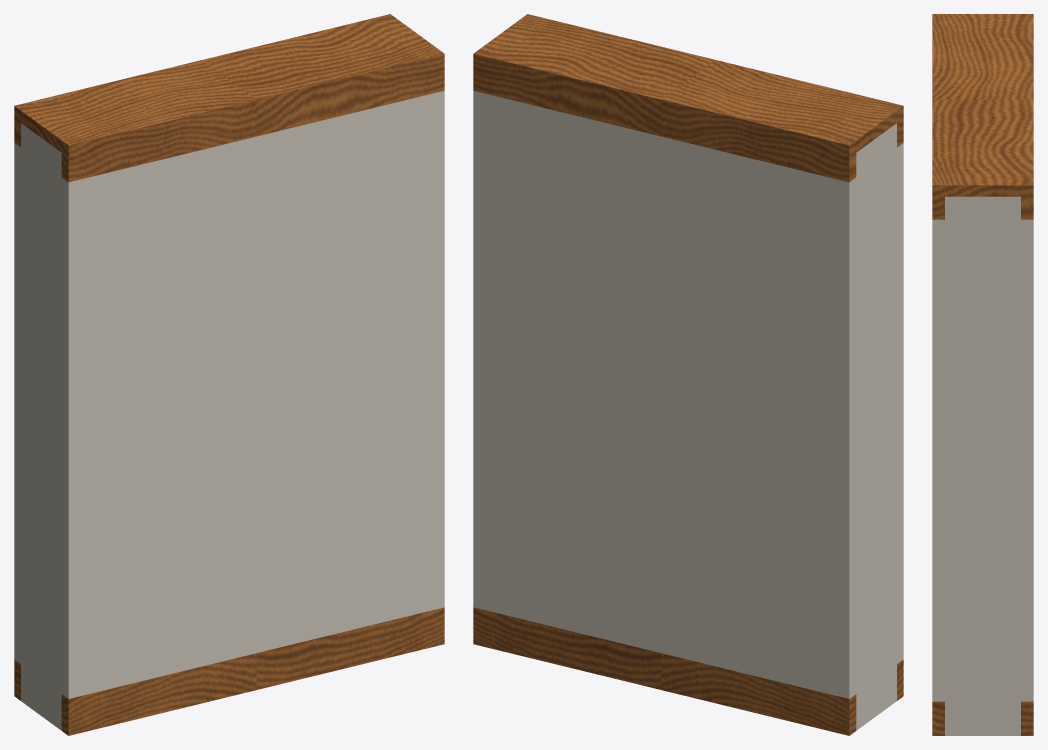
Rendered from wall_in_plaster.glb.
3 renders of one model, left to right at view 1: azimuth 30°, elevation 25°; view 2: azimuth 150°, elevation 25°; view 3: azimuth 270°, elevation 25°, orthographic. The views are drawn at different scales.
Visible parts, largest first — view 1: town_wall_in_plaster; view 2: town_wall_in_plaster; view 3: town_wall_in_plaster.
Part boxes in pixels (box(x1,y1,x2,y2)): town_wall_in_plaster: box(14, 14, 444, 735); town_wall_in_plaster: box(473, 14, 903, 735); town_wall_in_plaster: box(932, 14, 1033, 735).
Size of the model in its own units: 1 by 1.5 by 0.25.
2 materials, 1 textured.
